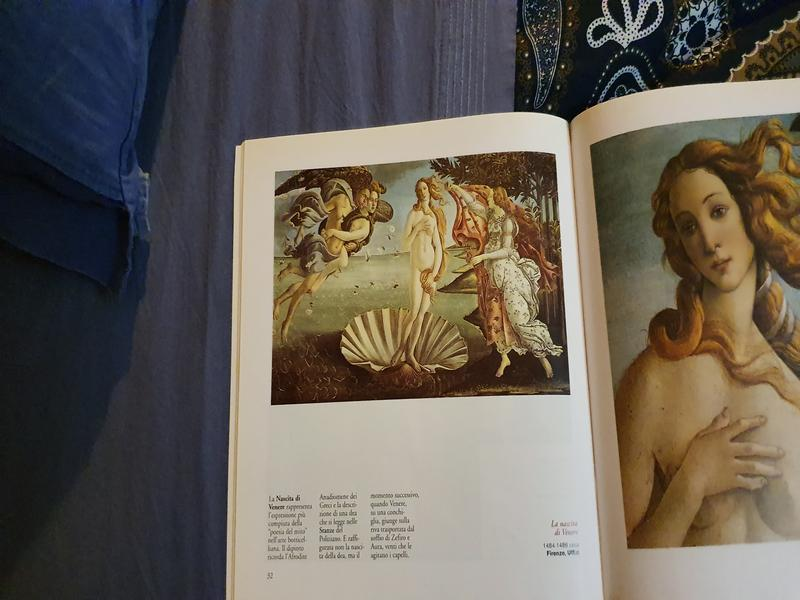Venere: (274, 139, 571, 419)
